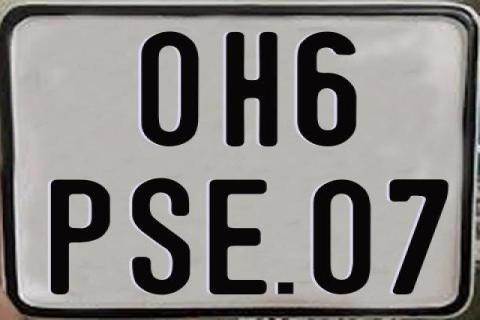0: (386, 178, 452, 296), (296, 29, 356, 149), (311, 178, 372, 296), (139, 29, 197, 149)
E: (206, 177, 270, 296)
H: (223, 31, 278, 148)
P: (51, 177, 114, 297)
S: (130, 178, 190, 300)
